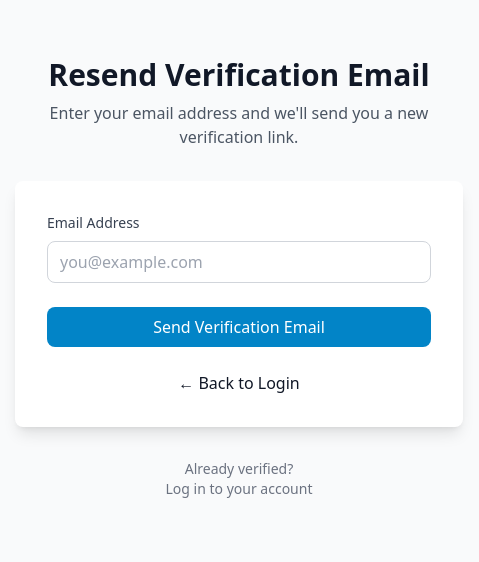
Test: ResendVerificationPage › should display helpful tips in success state
This screenshot has width=479, height=562.
Type "test@example.com" into the field labelled "Email Address" at point(239, 262), box [47, 241, 431, 283]
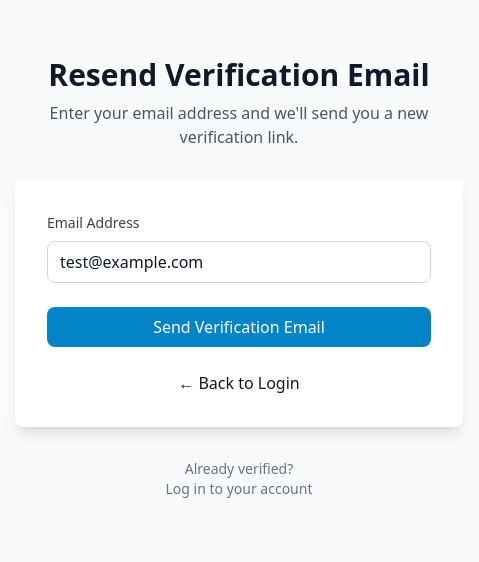
Click the button "Send Verification Email" at point(239, 327), box [47, 307, 431, 347]
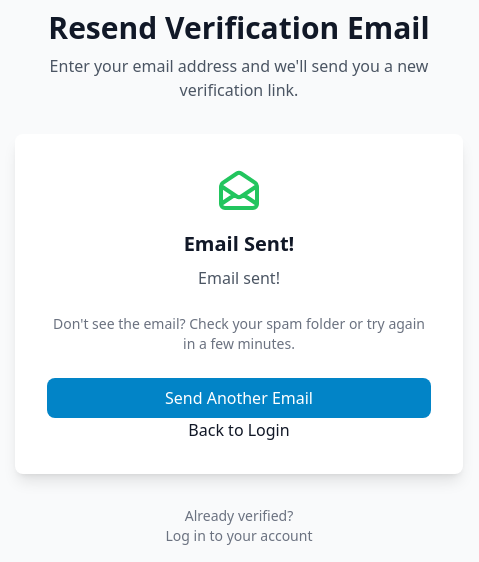
Result: the text "Don't see the email? Check your spam folder" is shown at [53, 314, 425, 353]
